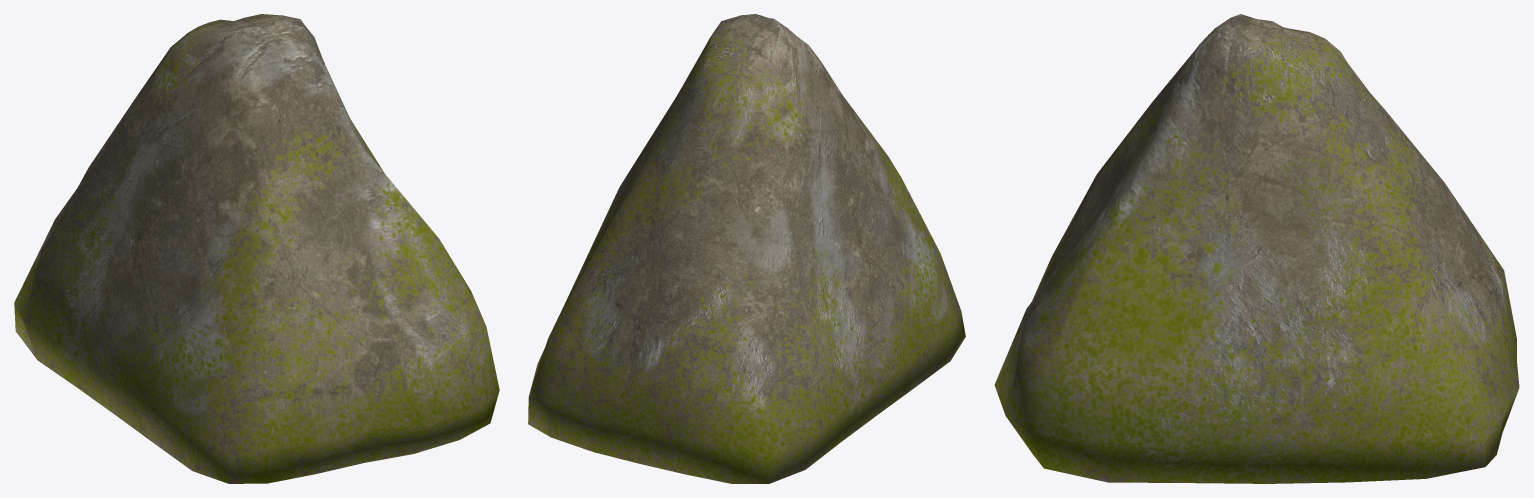
Rendered from Mountain1.fbx.
The picture shows the model from 3 angles, left to right: view 1: azimuth 30°, elevation 25°; view 2: azimuth 150°, elevation 25°; view 3: azimuth 270°, elevation 25°; orthographic projection. The views are drawn at different scales.
Visible parts, largest first — view 1: Mountain1.001; view 2: Mountain1.001; view 3: Mountain1.001.
Part boxes in pixels (box(x1,y1,x2,y2)): Mountain1.001: box(14, 14, 499, 483); Mountain1.001: box(528, 14, 965, 483); Mountain1.001: box(994, 14, 1519, 483).
Size of the model in its own units: 8013 by 9330 by 11270.
